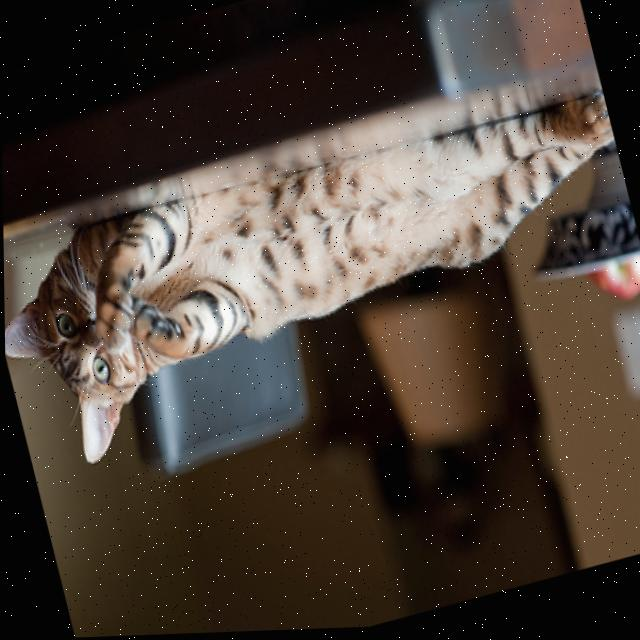Bengal: (1, 71, 640, 496)
